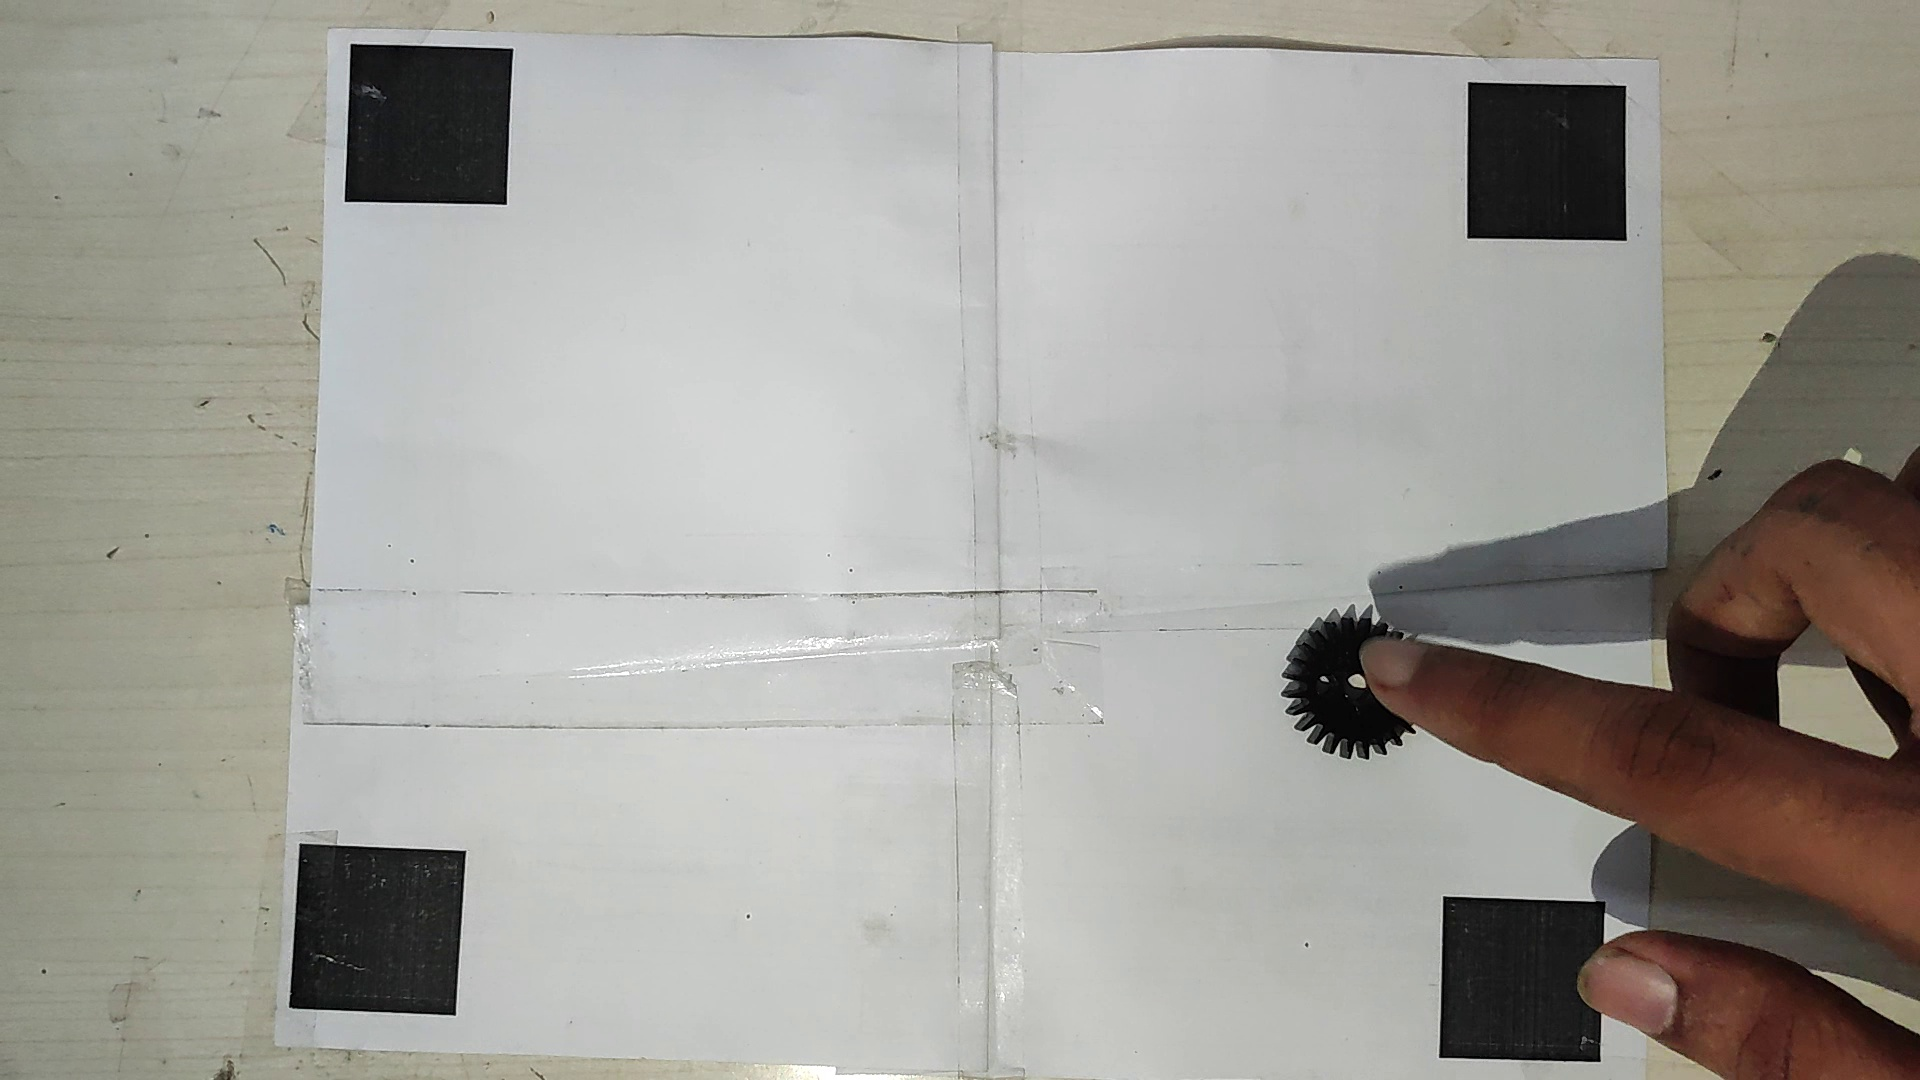Gear: (1274, 608, 1422, 764)
